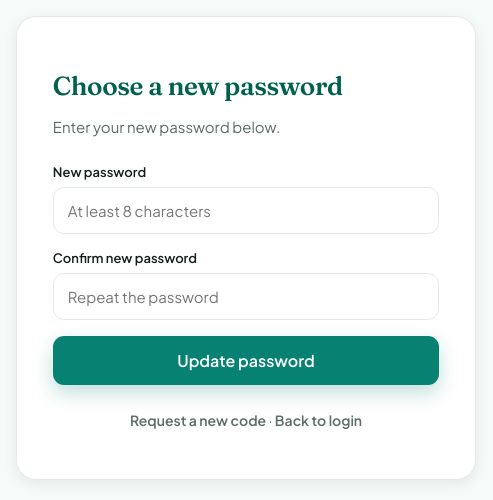
Test: Given a user on the reset password page › when the token and password are valid, then success links to login
This screenshot has width=493, height=500.
Type "GoodPass123!" into the password field labelled "New password". click: (246, 211)
box: [53,187,439,234]
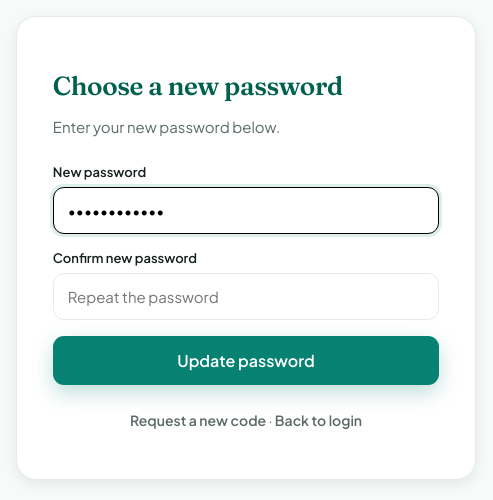
Type "GoodPass123!" into the password field labelled "Confirm new password". click: (246, 297)
box: [53,273,439,320]
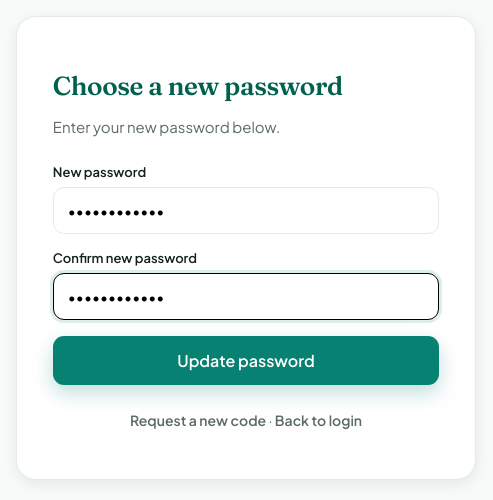
Click the button "Update password". click: (246, 361)
box: [53,336,439,385]
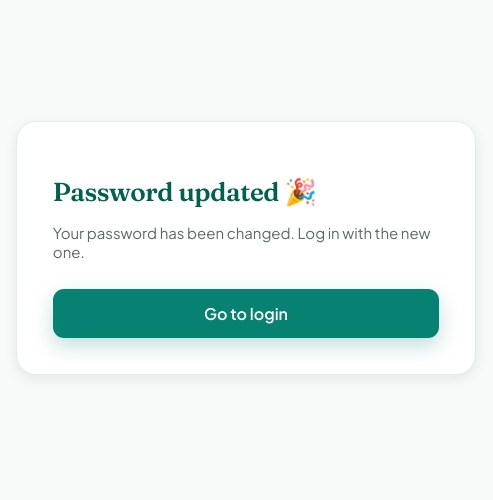
Now the heading "Password updated 🎉" is shown, box [53,176,316,208]
Now the link "Go to login" is shown, box [53,289,439,338]
